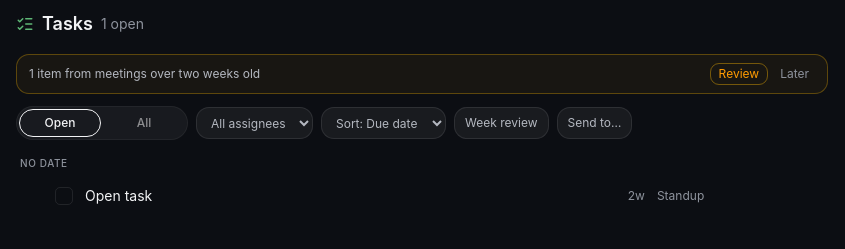
TasksView › hides done tasks by default (Open filter) and shows them under All
The image size is (845, 249).
Expected: the text "Open task" is shown, [85,187,152,204]
Expected: the text "Done task" is not shown
Click the button "All" at x=144, y=123, box [103,109,185,137]
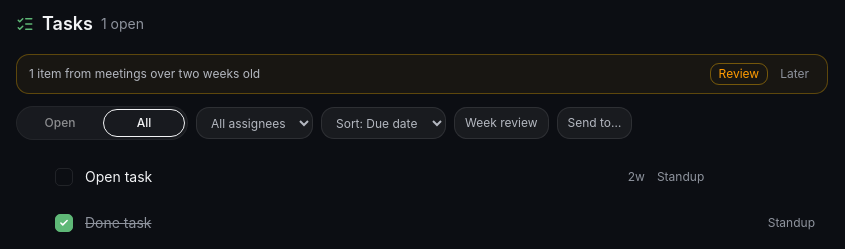
Expected: the text "Done task" is shown, [85,214,152,231]
